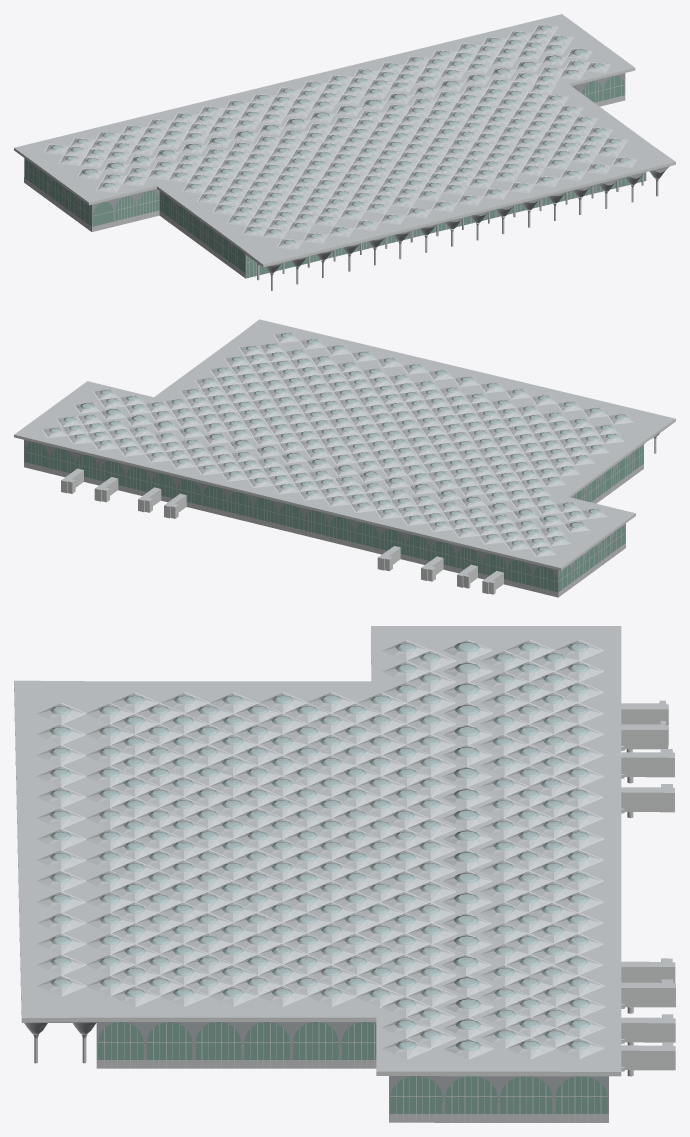
Rendered from istanbul-airport-terminal.detail.glb.
3 views of the same model, one above another, from view 1: azimuth 30°, elevation 25°; view 2: azimuth 150°, elevation 25°; view 3: azimuth 270°, elevation 25° (orthographic). The views are drawn at different scales.
Visible parts, largest first — view 1: Istanbul Airport terminal; view 2: Istanbul Airport terminal; view 3: Istanbul Airport terminal.
Part boxes in pixels (x1=…): Istanbul Airport terminal: x1=14, y1=14, x2=675, y2=290; Istanbul Airport terminal: x1=14, y1=319, x2=675, y2=597; Istanbul Airport terminal: x1=14, y1=626, x2=675, y2=1122.
Size of the model in its own units: 765 by 48.9 by 480.
